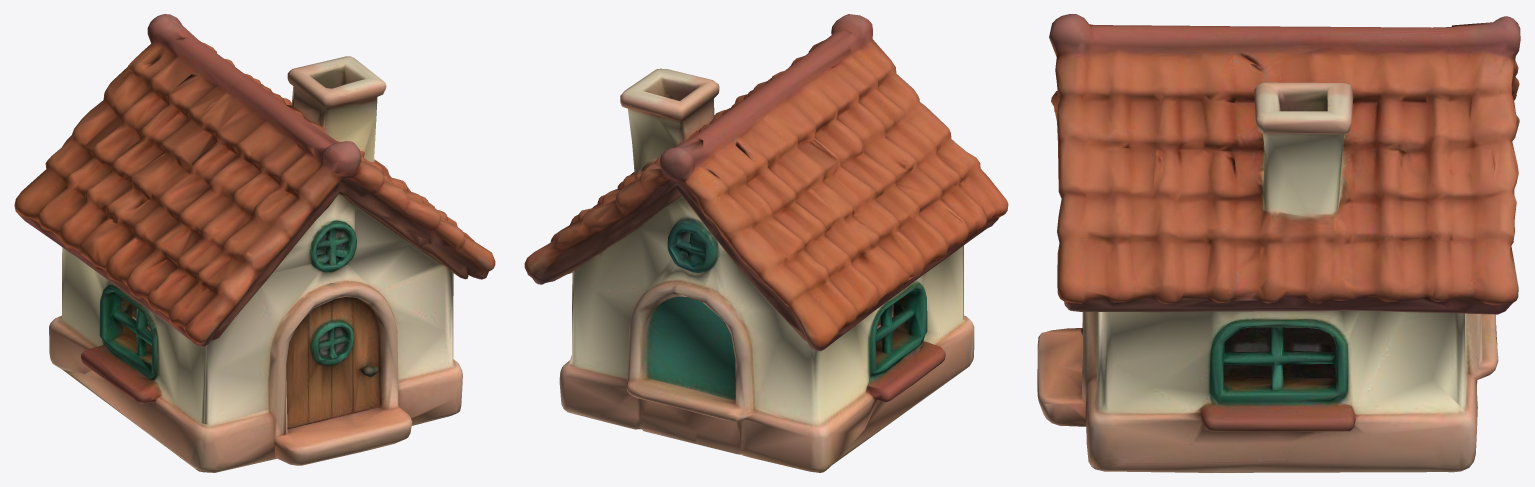
The model's file is building-house.glb.
3 views of the same model, side by side, from view 1: azimuth 30°, elevation 25°; view 2: azimuth 150°, elevation 25°; view 3: azimuth 270°, elevation 25° (orthographic). The views are drawn at different scales.
Parts seen in each view (by area): view 1: Mesh_0; view 2: Mesh_0; view 3: Mesh_0.
Boxes of the visible parts, bbox=[...] form: Mesh_0: bbox=[14, 14, 495, 472]; Mesh_0: bbox=[524, 14, 1008, 472]; Mesh_0: bbox=[1037, 14, 1520, 472].
Size of the model in its own units: 1.81 by 1.73 by 2.
1 material, 1 textured.
